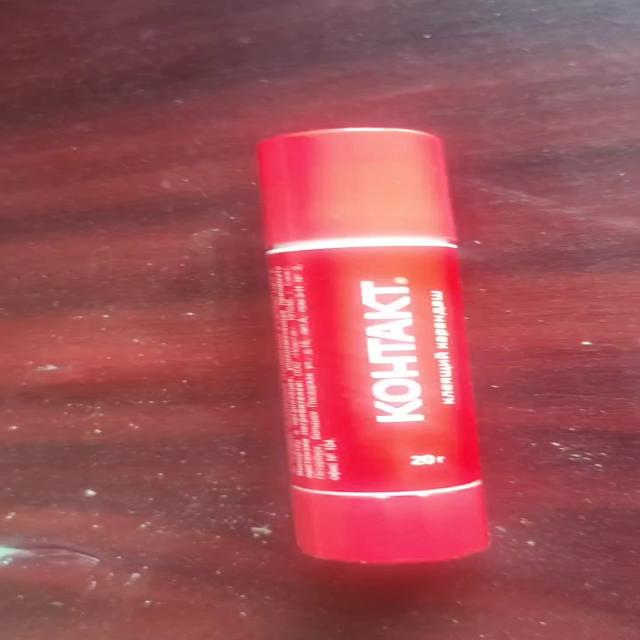glue: (255, 126, 492, 564)
